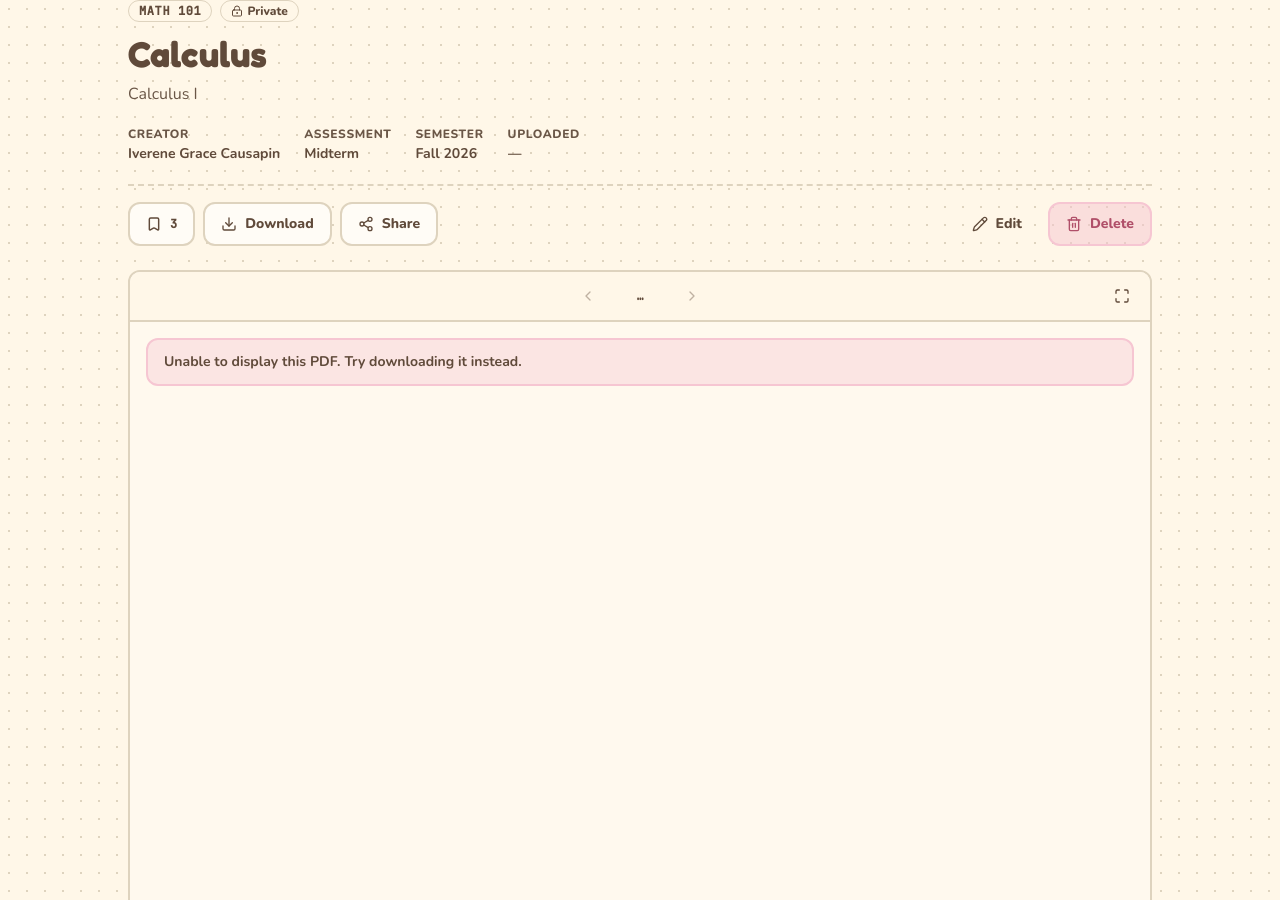
Test: Reviewer › copies a share link with visibility semantics
Click the button "Share".
click(389, 224)  # box left=340, top=202, right=438, bottom=246
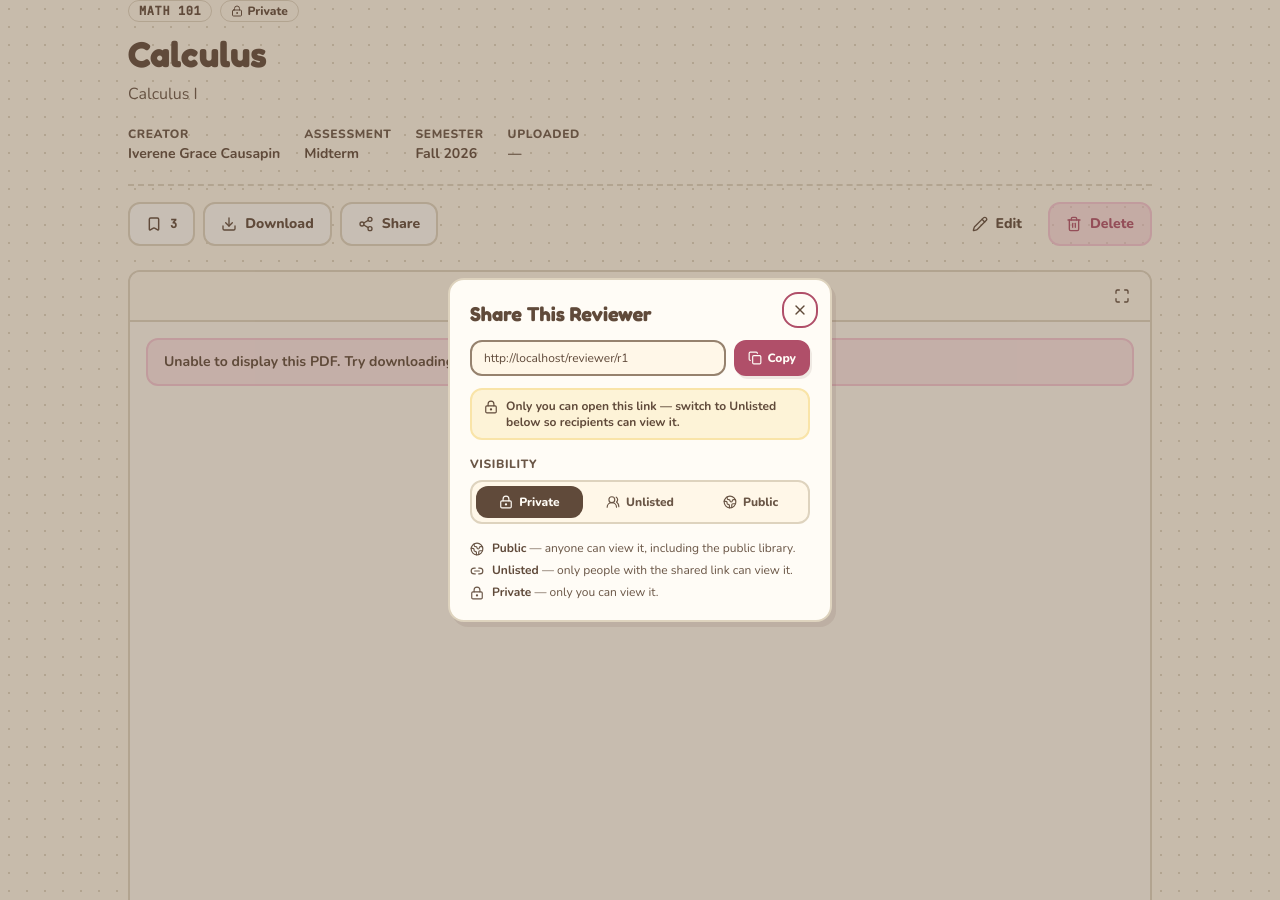
Result: the dialog "Share This Reviewer" is shown at left=448, top=278, right=832, bottom=622
Click the button "Copy".
click(772, 358)  # box left=734, top=340, right=810, bottom=376
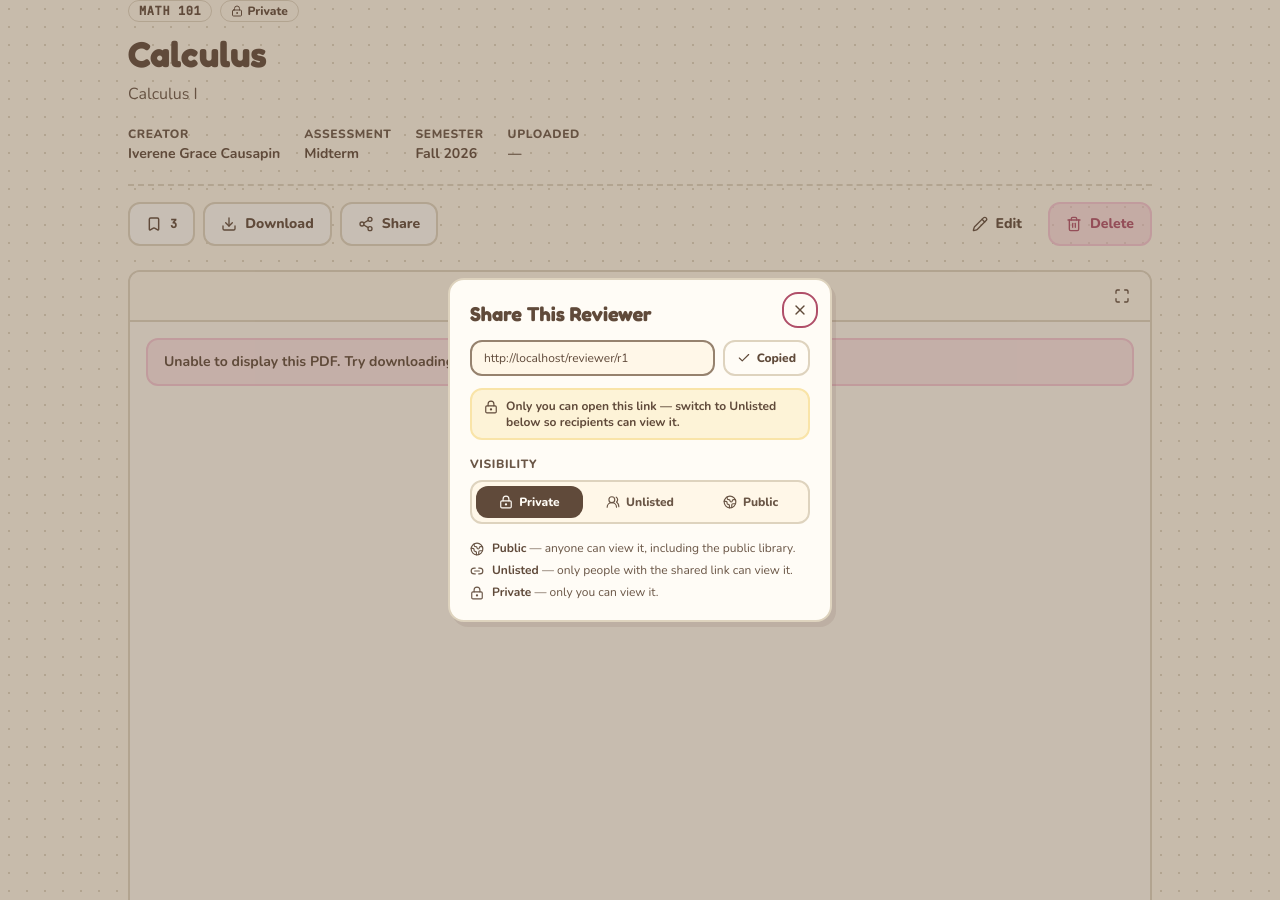
Result: the button "Copied" is shown at left=723, top=340, right=810, bottom=376
